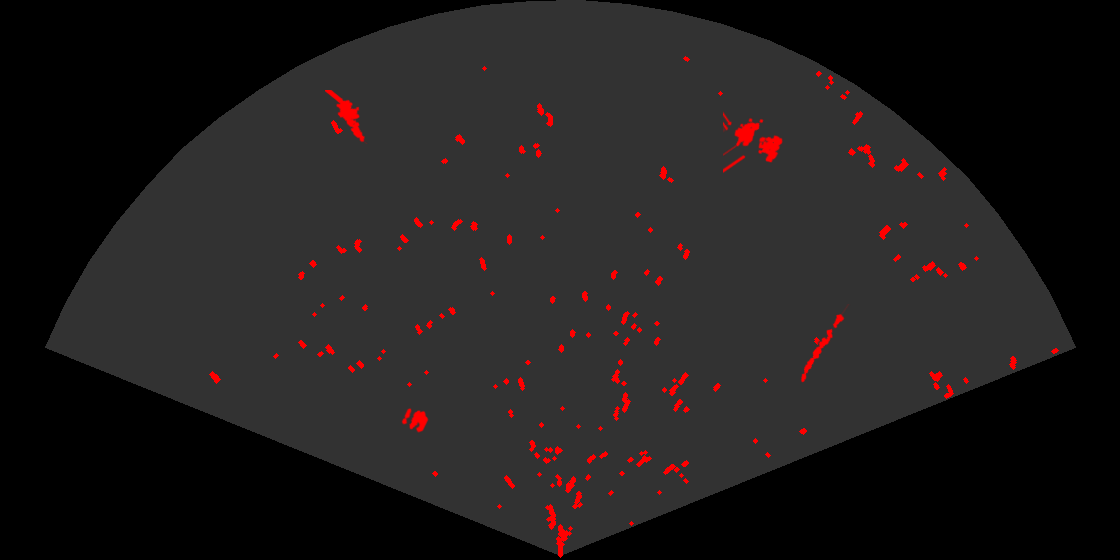ball: (400, 406, 430, 434)
cage: (723, 110, 784, 175)
chain: (799, 304, 851, 384)
frogman: (325, 90, 369, 144)
